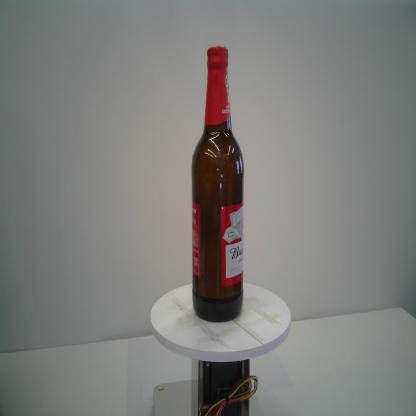Alcohol: (189, 44, 245, 324)
